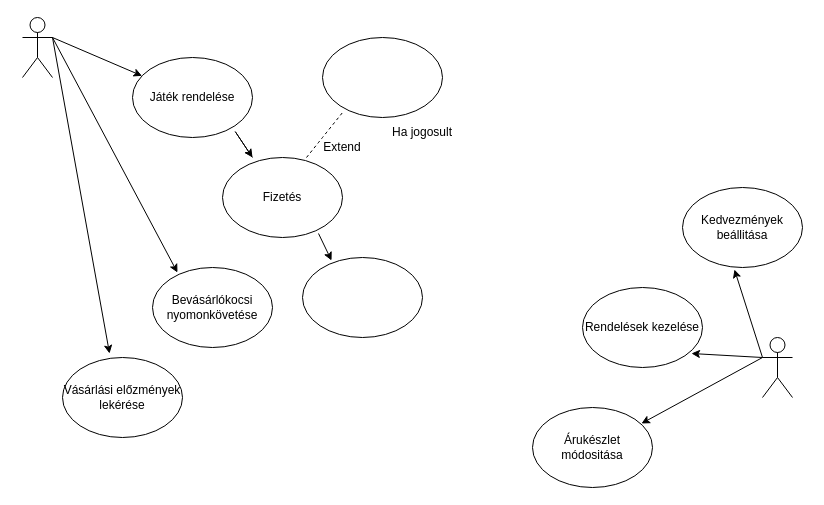
Some shapes in this 824 by 505 pixel diagram are drawn without their labels. The centre of each missing label's shape, as x and y in pixels:
Kedvezmény: pixel 382 77
Számla elkészitése: pixel 362 297
Tulajdonos: pixel 777 367
Vásárló: pixel 37 47
